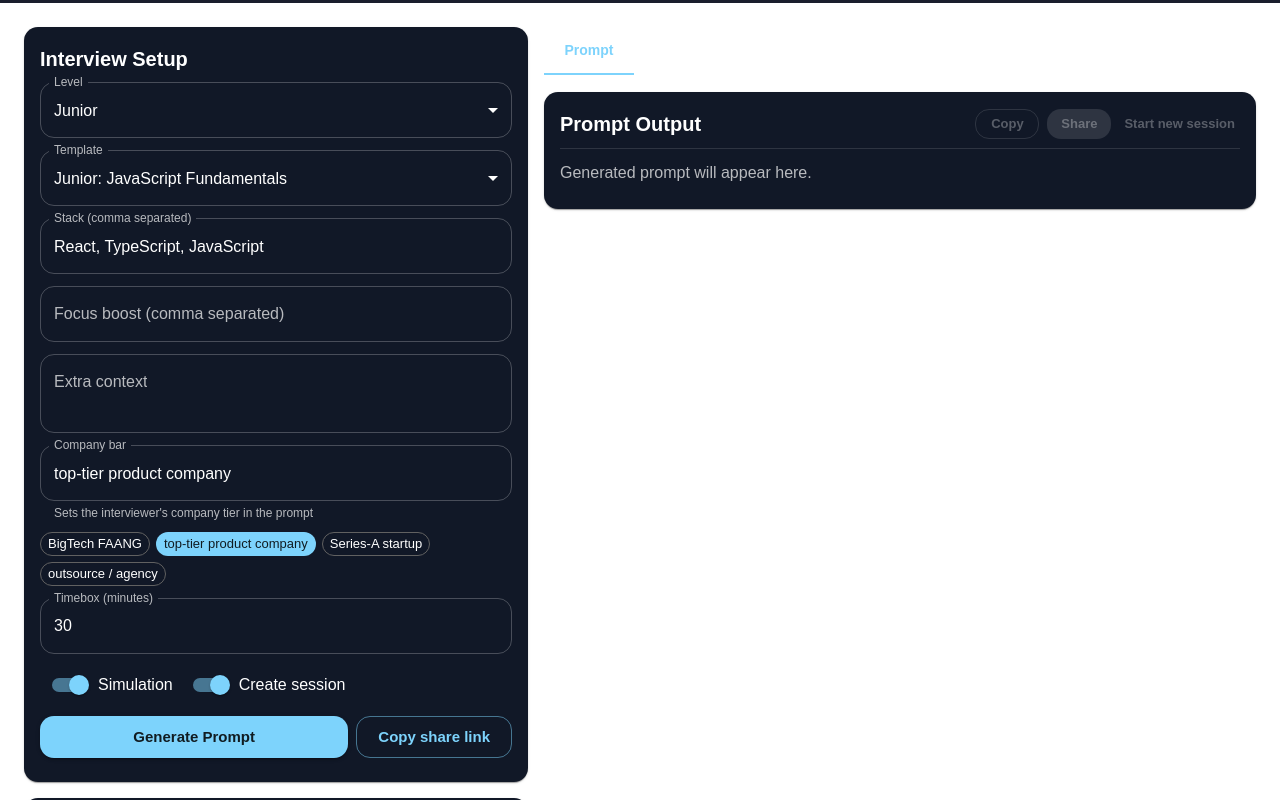
Scenario: App › shows the topic heatmap empty state when no sessions exist
The width and height of the screenshot is (1280, 800).
Click the tab "Charts". click: click(679, 51)
box: [634, 27, 724, 75]
(page scrolled)
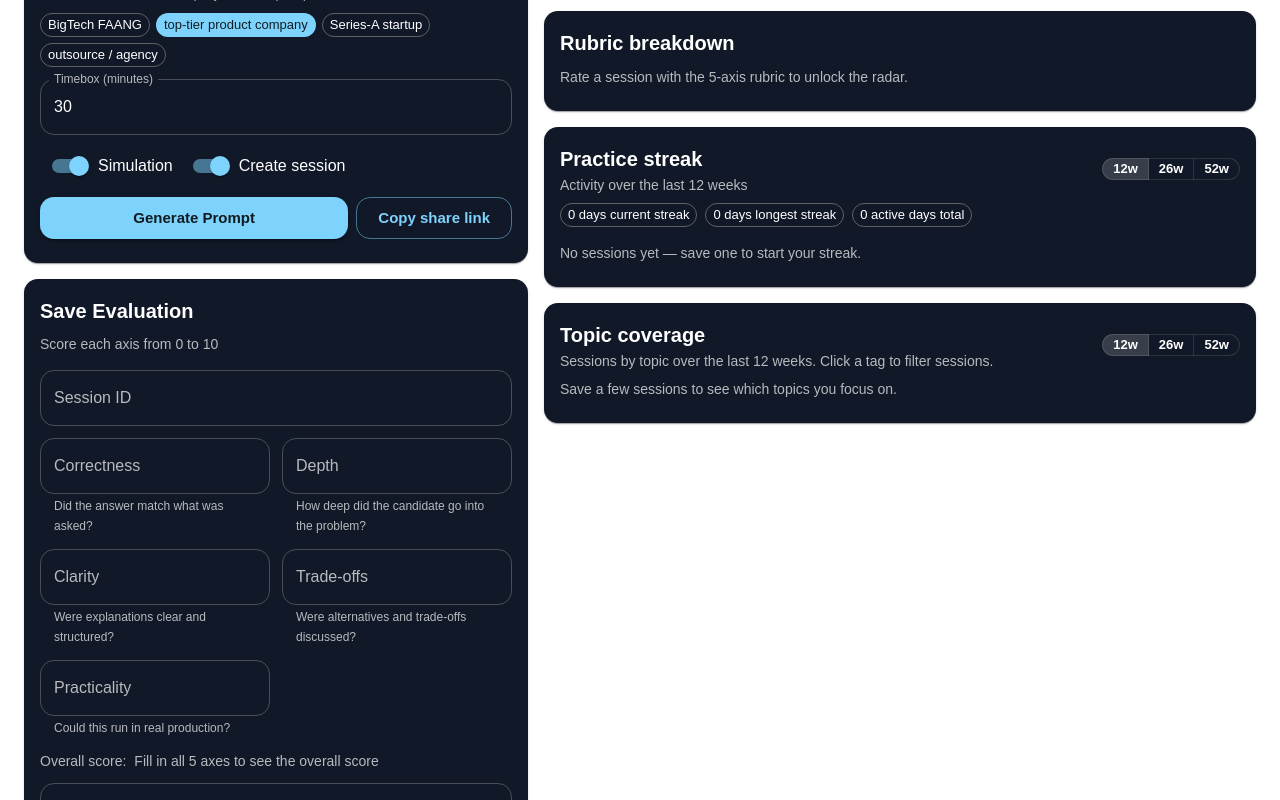
Expected: the heading "Topic coverage" is shown, [560, 324, 705, 346]
Expected: the text "Save a few sessions to see which topics you focus on." is shown, [560, 381, 897, 397]
